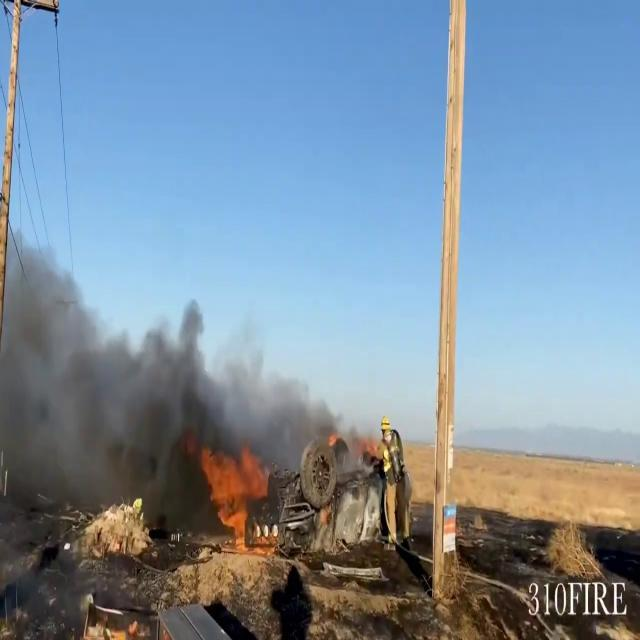Fire: (196, 432, 274, 550)
Smoke: (1, 242, 347, 534)
